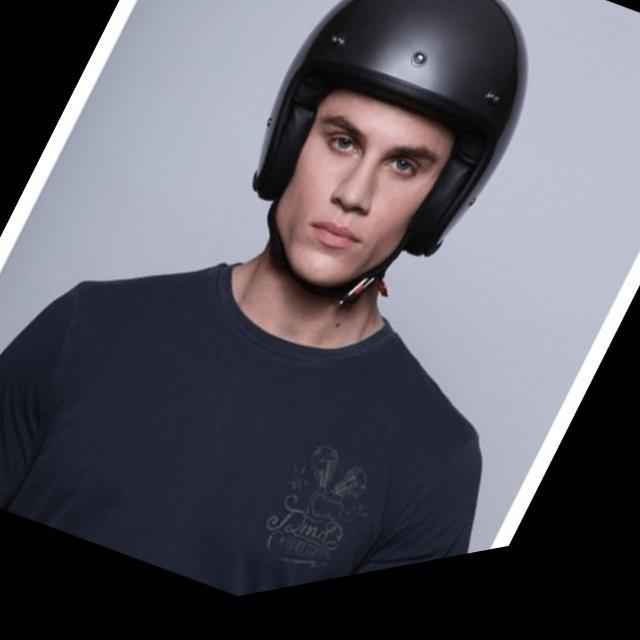Helmet: (246, 0, 532, 298)
